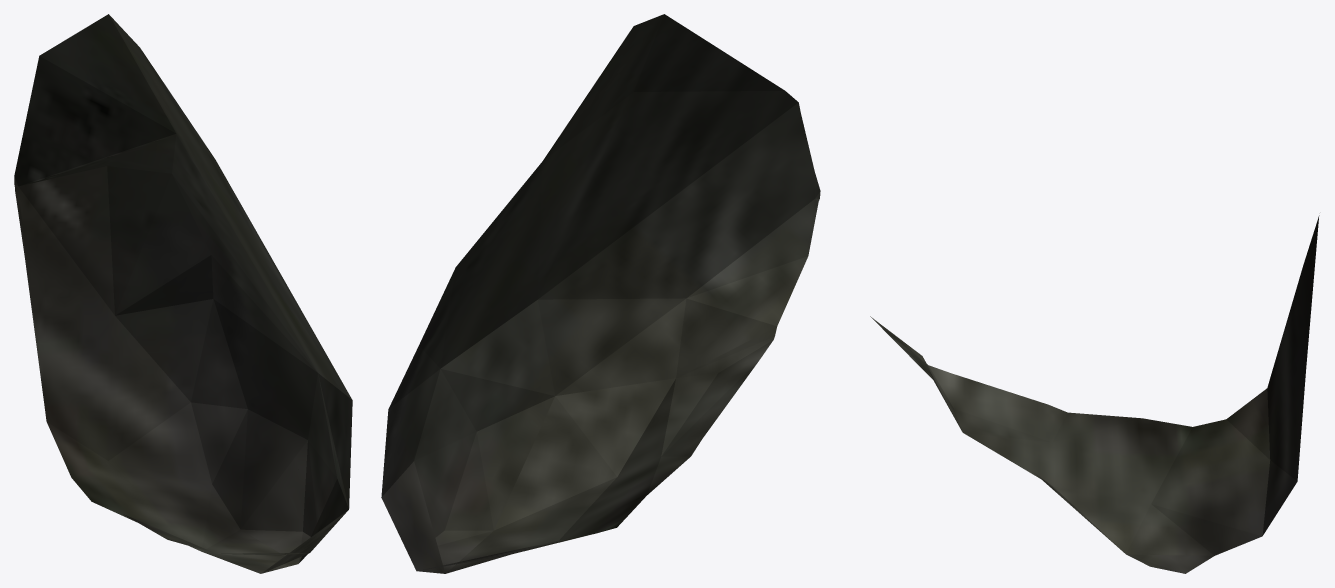
3 renders of one model, left to right at view 1: azimuth 30°, elevation 25°; view 2: azimuth 150°, elevation 25°; view 3: azimuth 270°, elevation 25°, orthographic. The views are drawn at different scales.
Bounding box in the file's own units: 0.4052 × 1.06 × 0.9453.
1 material, 1 textured.
